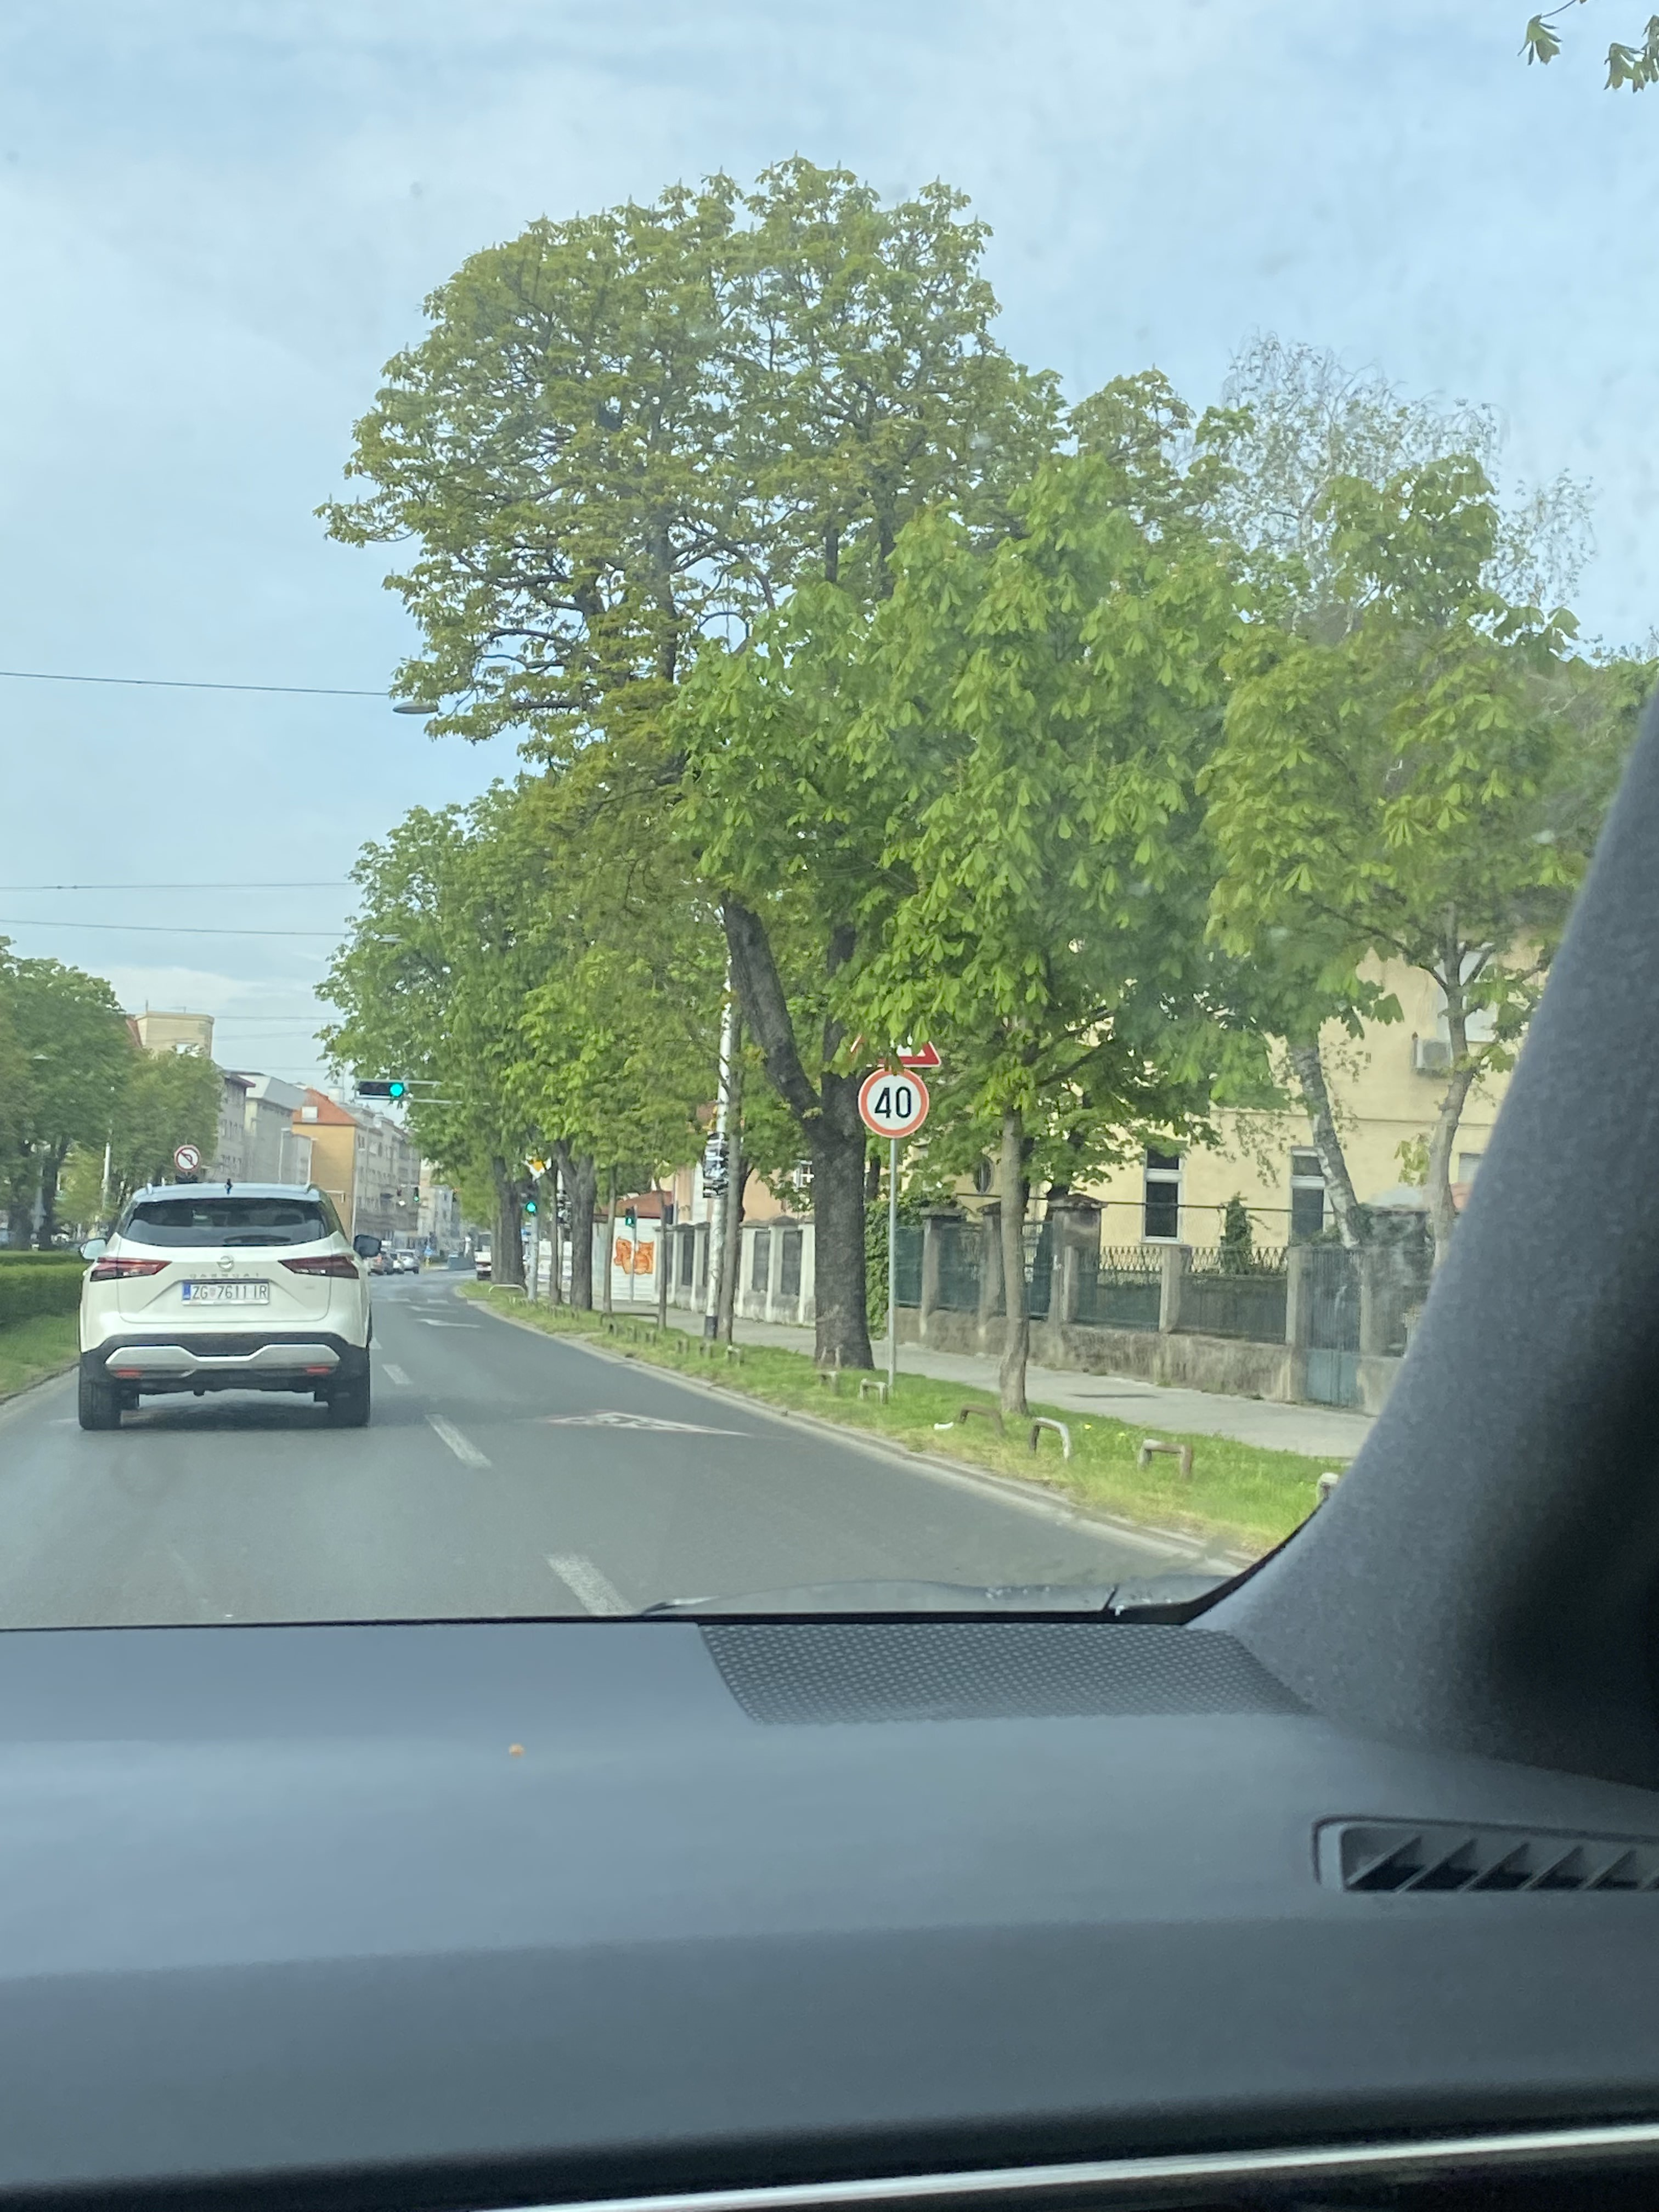Ograničenje brzine 40: (857, 1068, 931, 1139)
